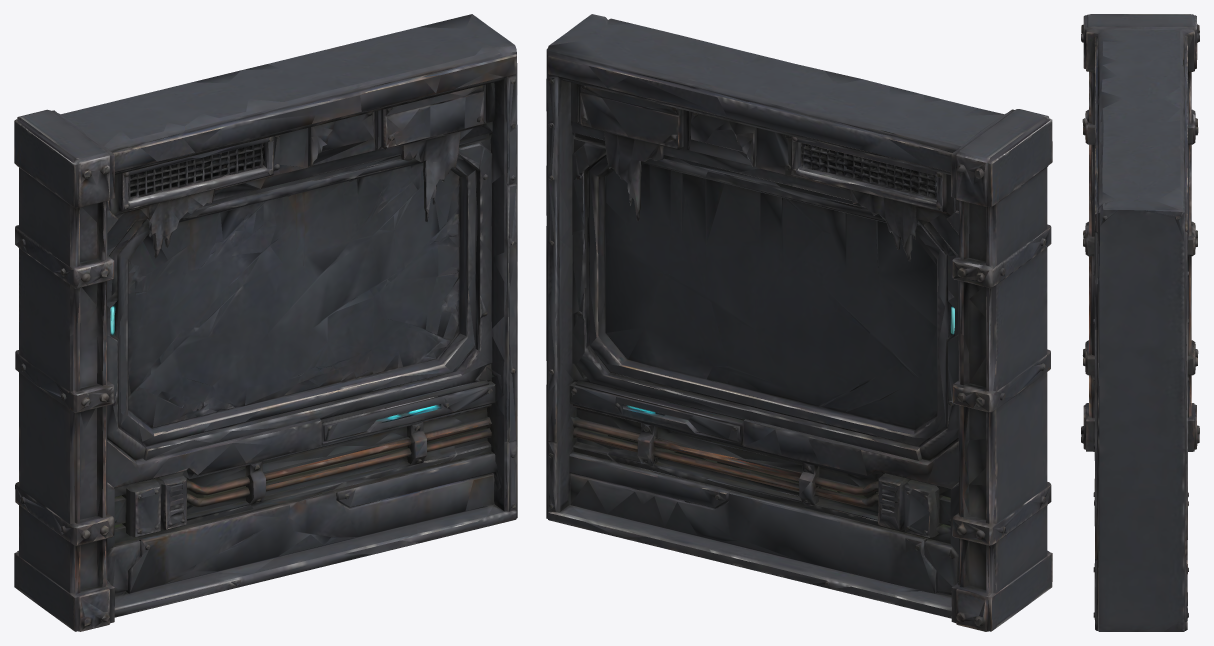
The model's file is SignalWall.glb.
The picture shows the model from 3 angles, left to right: view 1: azimuth 30°, elevation 25°; view 2: azimuth 150°, elevation 25°; view 3: azimuth 270°, elevation 25°; orthographic projection. The views are drawn at different scales.
Visible parts, largest first — view 1: tripo_node_806884e9-6043-49f4-bcc5-53cc46da884c; view 2: tripo_node_806884e9-6043-49f4-bcc5-53cc46da884c; view 3: tripo_node_806884e9-6043-49f4-bcc5-53cc46da884c.
Boxes of the visible parts, x1=… form: tripo_node_806884e9-6043-49f4-bcc5-53cc46da884c: x1=14, y1=14, x2=517, y2=631; tripo_node_806884e9-6043-49f4-bcc5-53cc46da884c: x1=546, y1=14, x2=1052, y2=631; tripo_node_806884e9-6043-49f4-bcc5-53cc46da884c: x1=1081, y1=14, x2=1199, y2=631.
Bounding box in the file's own units: 0.9785 × 0.9741 × 0.2477.
1 material, 1 textured.
